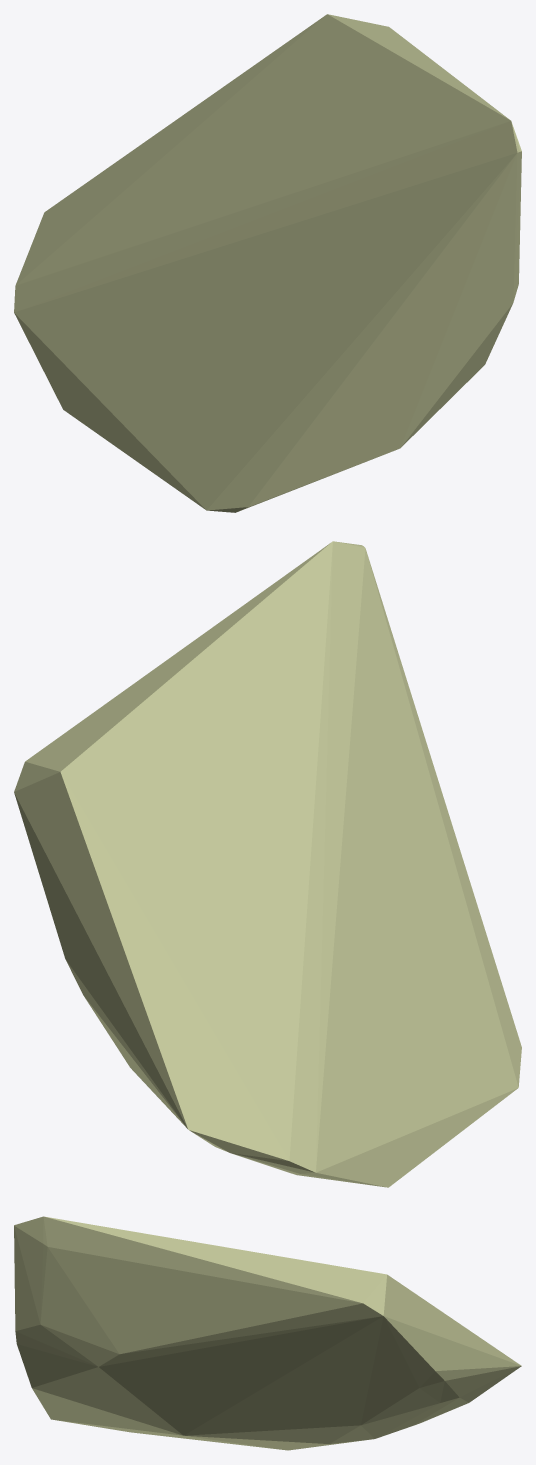
File: misc_toy_phantomMask_a01.glb
The picture shows the model from 3 angles, top to bottom: view 1: azimuth 30°, elevation 25°; view 2: azimuth 150°, elevation 25°; view 3: azimuth 270°, elevation 25°; orthographic projection. The views are drawn at different scales.
Visible parts, largest first — view 1: geometry_0; view 2: geometry_0; view 3: geometry_0.
Part boxes in pixels (left/top/right/bottom): geometry_0: left=14, top=14, right=521, bottom=512; geometry_0: left=14, top=541, right=521, bottom=1187; geometry_0: left=14, top=1216, right=521, bottom=1450.
Size of the model in its own units: 0.2833 by 0.3176 by 0.4766.
